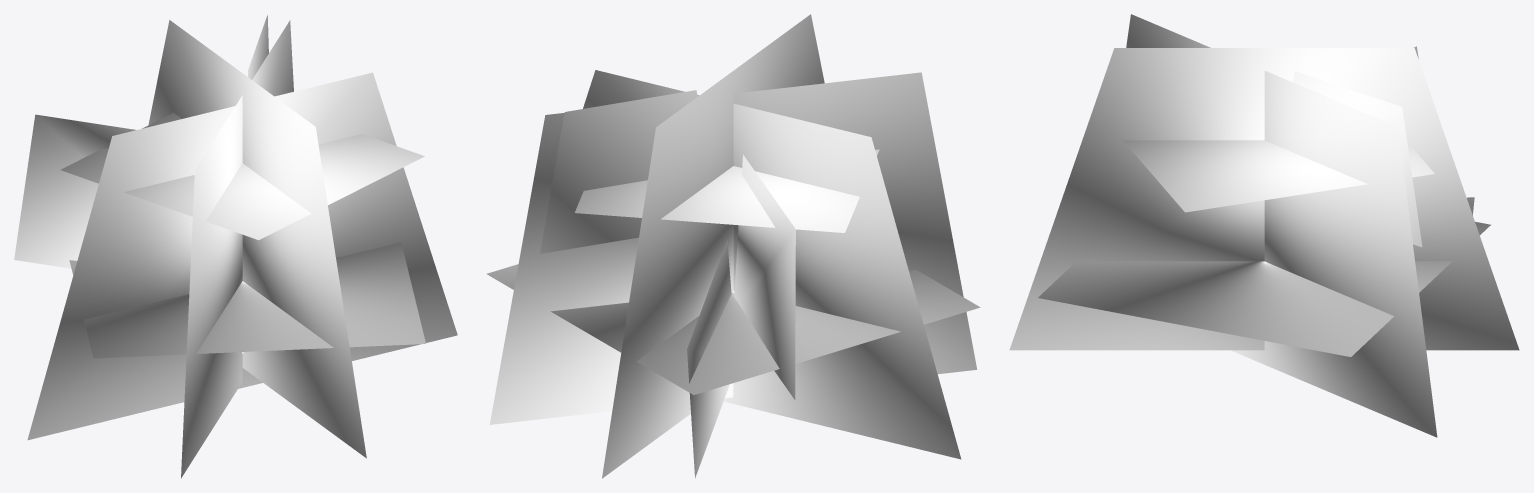
Rendered from park-canopy-one-unit-authored-atlas.glb.
The picture shows the model from 3 angles, left to right: view 1: azimuth 30°, elevation 25°; view 2: azimuth 150°, elevation 25°; view 3: azimuth 270°, elevation 25°; orthographic projection. The views are drawn at different scales.
Visible parts, largest first — view 1: Authored surface; view 2: Authored surface; view 3: Authored surface.
Part boxes in pixels (x1,y1,x2,y2): Authored surface: (14,15,457,478); Authored surface: (487,14,980,478); Authored surface: (1009,14,1519,437).
Size of the model in its own units: 6.54 by 4.57 by 6.54.
Materials: 1 (1 with a texture image).
